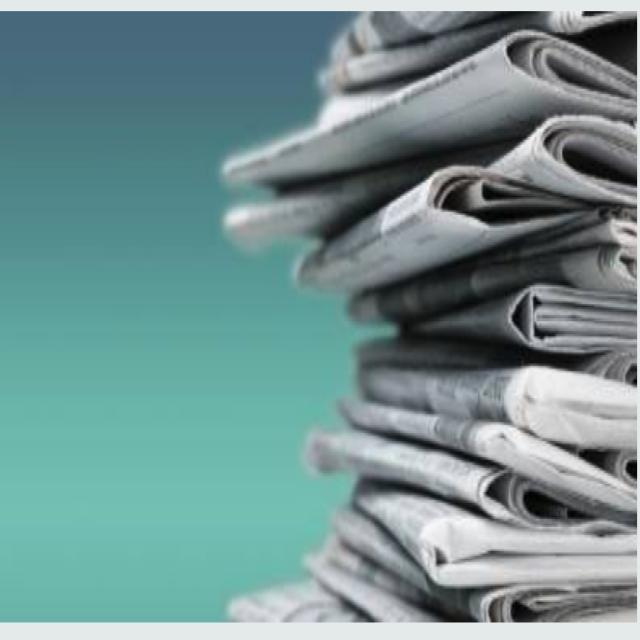Koran: (219, 11, 636, 621)
